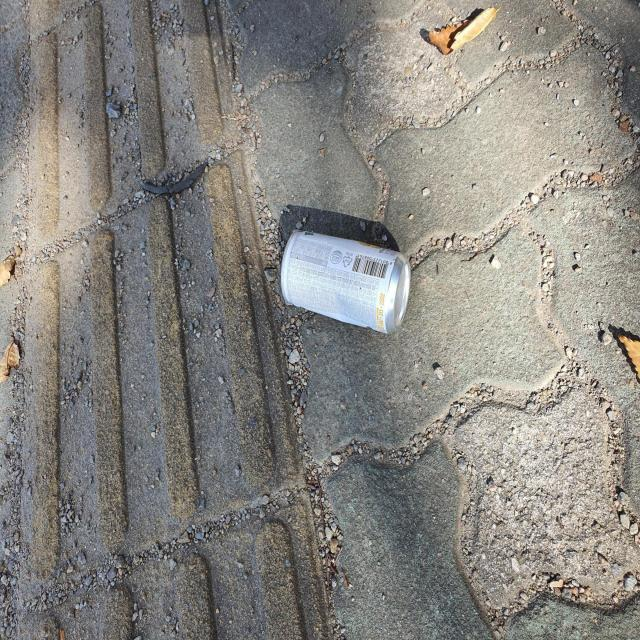can: (281, 230, 410, 333)
